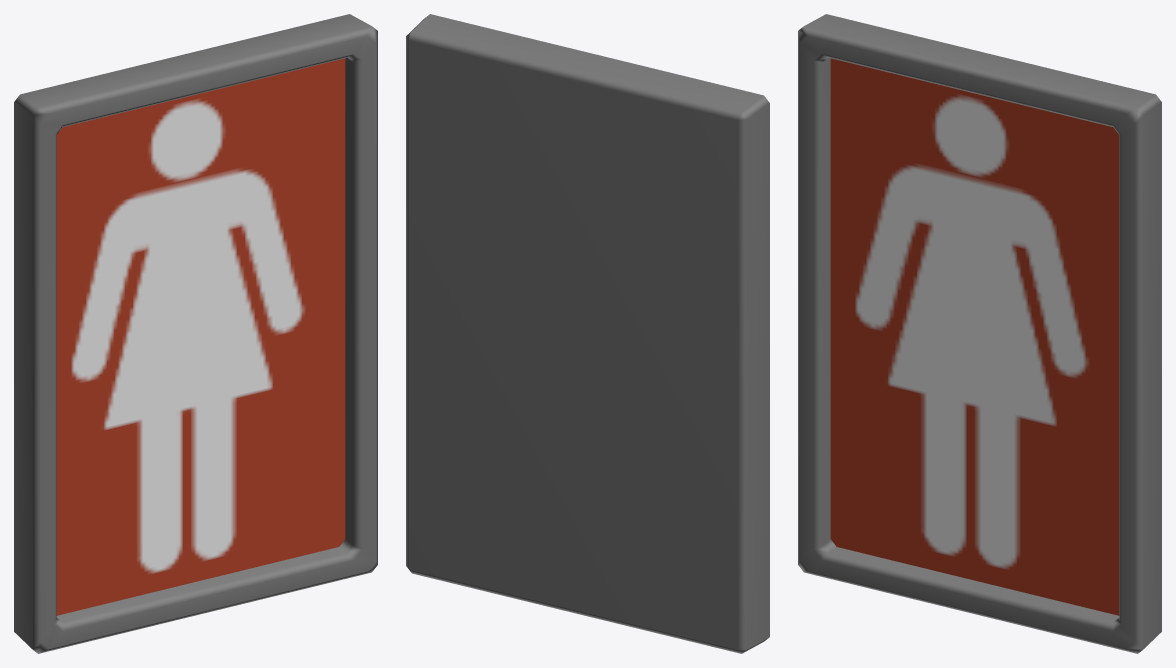
File: SM_sign_toilet_women.fbx
The picture shows the model from 3 angles, left to right: view 1: azimuth 30°, elevation 25°; view 2: azimuth 150°, elevation 25°; view 3: azimuth 330°, elevation 25°; orthographic projection.
Parts seen in each view (by area): view 1: sign_roomname12; view 2: sign_roomname12; view 3: sign_roomname12.
Boxes of the visible parts, left/top/right/bottom form: sign_roomname12: left=14, top=14, right=377, bottom=653; sign_roomname12: left=406, top=14, right=769, bottom=653; sign_roomname12: left=798, top=14, right=1161, bottom=653.
Size of the model in its own units: 8 by 12.09 by 1.08.
Materials: 2 (1 with a texture image).
